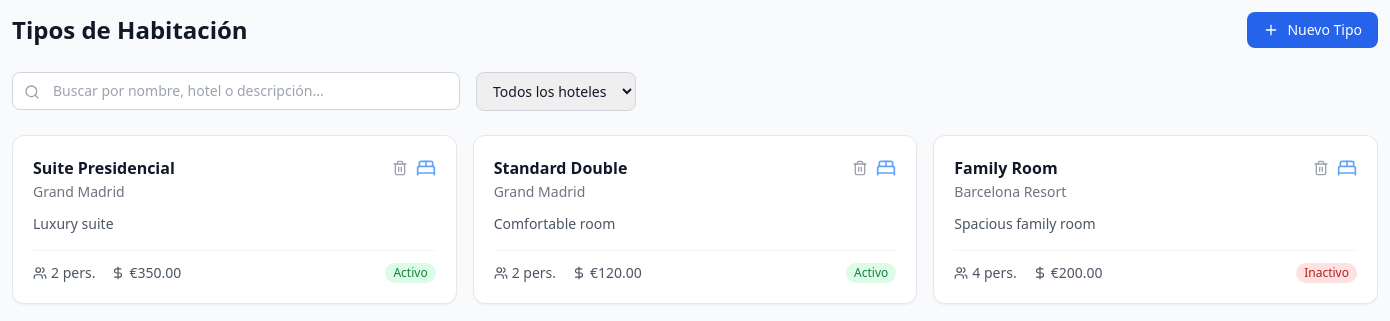
Scenario: RoomsPage › should filter rooms by hotel name in search
Expected: the heading "Family Room" is shown, [954,157,1058,179]
Step 1. Type "barcelona" into the field with placeholder "Buscar por nombre, hotel o descripción..." → coordinates (236, 91), box [12,72,460,110]
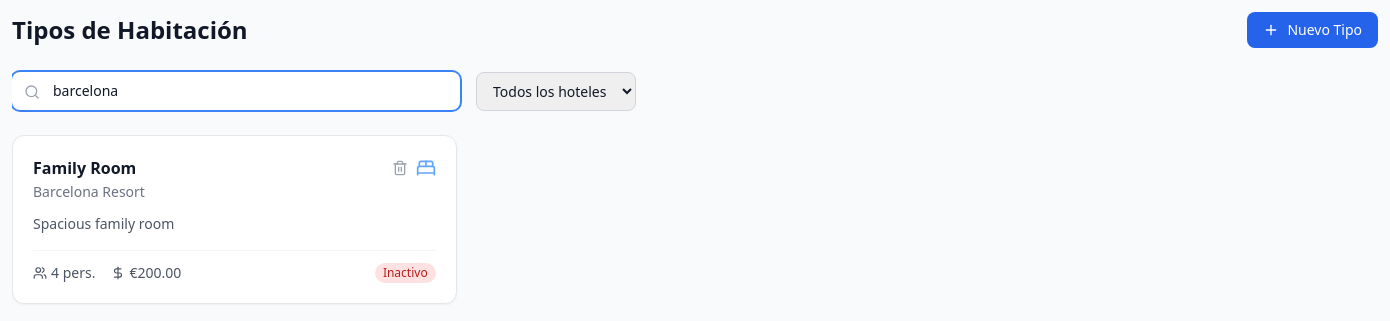
Expected: the heading "Family Room" is shown, [33,157,136,179]
Result: the heading "Suite Presidencial" is gone
